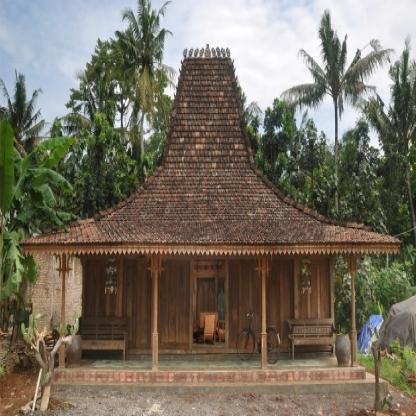Building Outline: (19, 48, 402, 371)
Dont: (20, 317, 129, 412), (287, 319, 350, 368), (236, 305, 281, 365)
Door: (194, 277, 226, 348)
Facade: (86, 257, 333, 355)
Ground Floor: (86, 257, 333, 355)
Pillar: (59, 257, 68, 372), (261, 257, 268, 371), (350, 257, 357, 371), (152, 257, 159, 371)
Roof: (19, 48, 402, 257)
